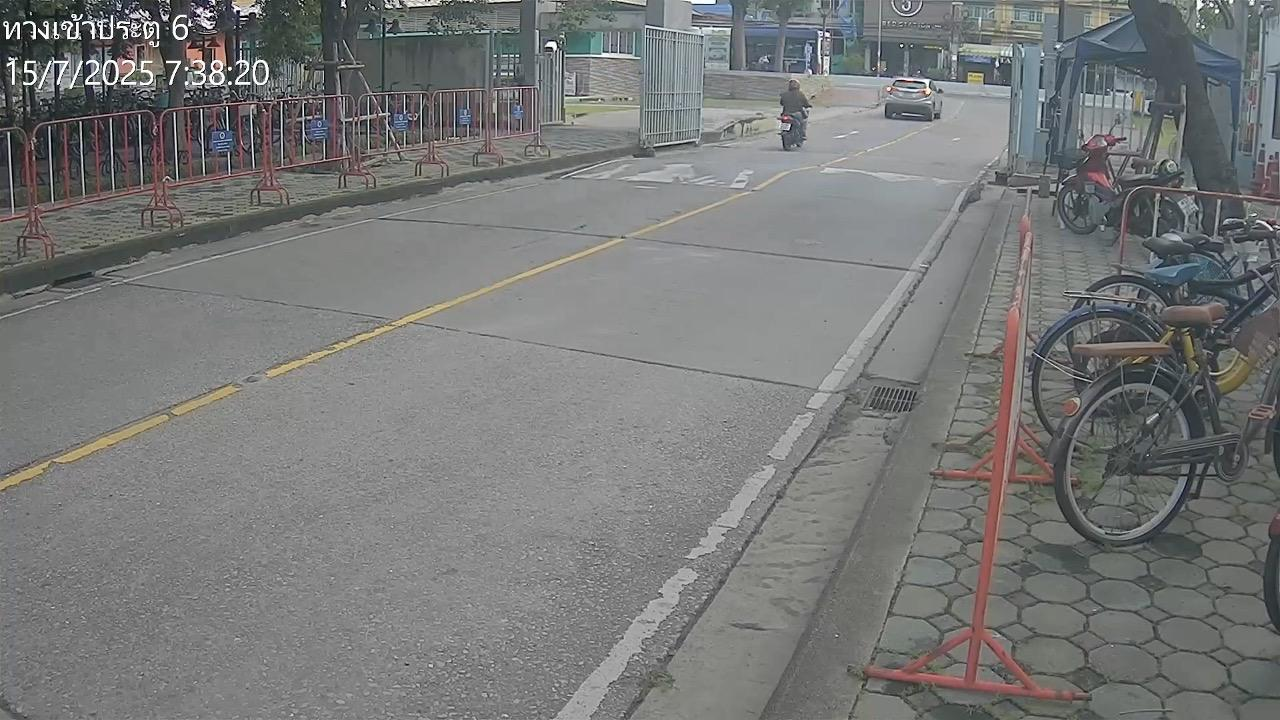With-Helmet: (789, 78, 801, 91)
